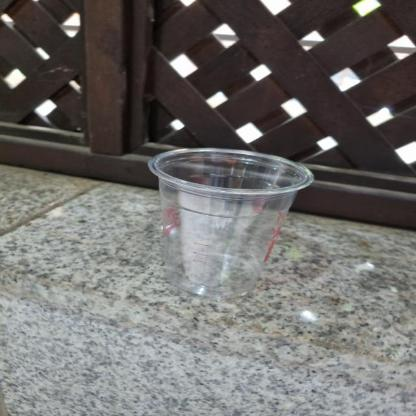Plastic Cup: (146, 147, 318, 301)
